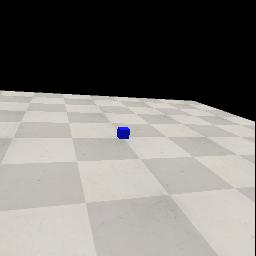box: (117, 127, 130, 139)
